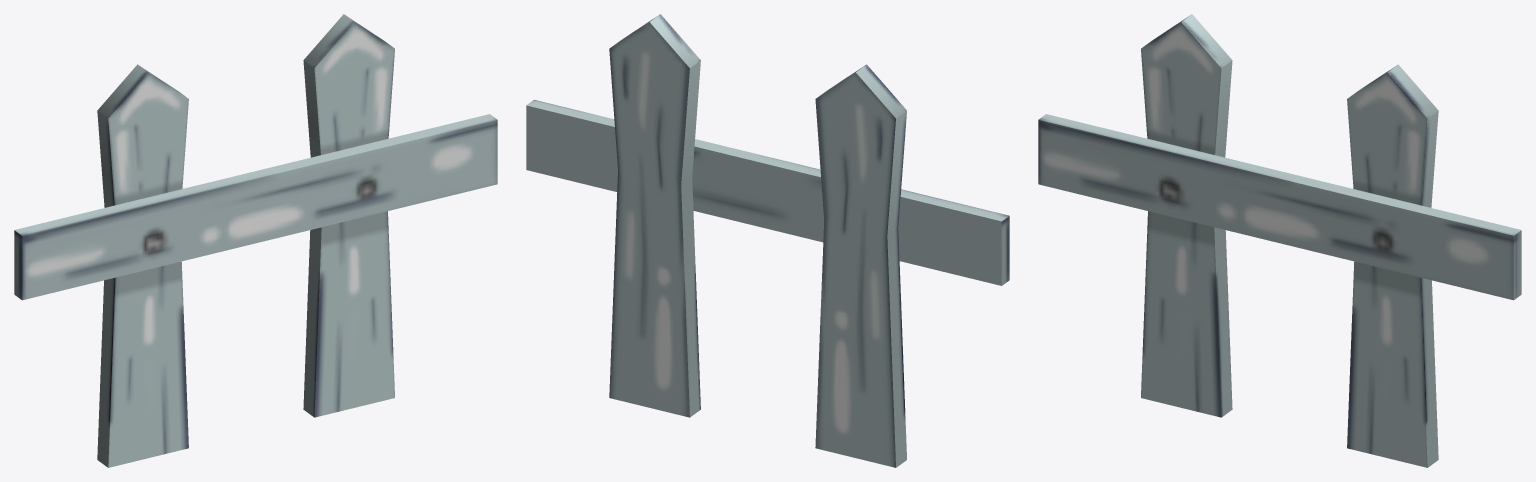
The model's file is Fence.fbx.
3 renders of one model, left to right at view 1: azimuth 30°, elevation 25°; view 2: azimuth 150°, elevation 25°; view 3: azimuth 330°, elevation 25°, orthographic.
Visible parts, largest first — view 1: Fence; view 2: Fence; view 3: Fence.
Boxes of the visible parts, bbox=[...] form: Fence: bbox=[14, 14, 497, 467]; Fence: bbox=[526, 14, 1009, 467]; Fence: bbox=[1038, 14, 1521, 467].
Bounding box in the file's own units: 1 × 0.7752 × 0.0701.
